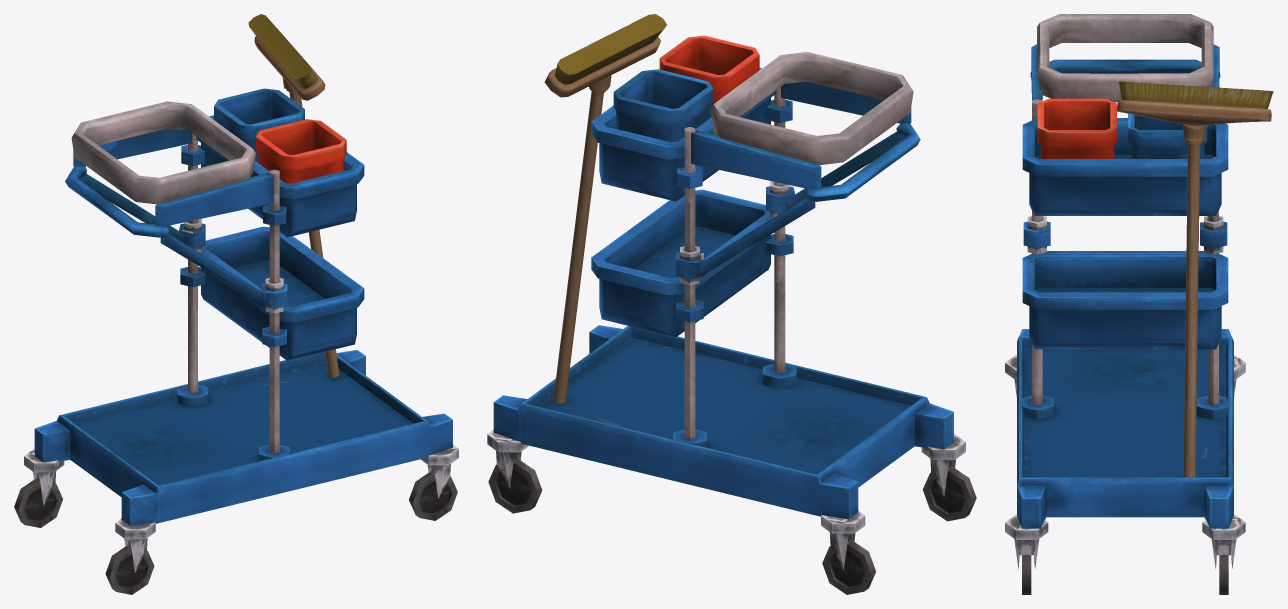
Rendered from chariot_shatter 1.fbx.
3 views of the same model, side by side, from view 1: azimuth 30°, elevation 25°; view 2: azimuth 150°, elevation 25°; view 3: azimuth 270°, elevation 25° (orthographic). The views are drawn at different scales.
Parts seen in each view (by area): view 1: Pieces_3_6, Pieces_1_6, Pieces_2_7, Pieces_3_4, Pieces_2_2, Pieces_3_2, Cylindre_2_3, Pieces_2_3, Pieces_3, Cylindre_2_1, Cylindre_2_2, Pieces_1 (+12 smaller); view 2: Pieces_3_6, Pieces_2_7, Pieces_1_6, Cylindre_2_1, Pieces_2_6, Pieces_3_4, Pieces_3_2, Cylindre_2_2, Pieces_2_3, Pieces_1, Pieces_2, Cylindre_2_3 (+12 smaller); view 3: Pieces_3_6, Cylindre_2_1, Pieces_3_4, Pieces_1, Pieces_1_3, Pieces_1_6, Pieces_2_7, Pieces_3_2, Pieces_2_3, Cylindre_2_3, Pieces_2, Cylindre_2_4_2 (+11 smaller).
Boxes of the visible parts, left/top/right/bottom form: Pieces_3_6: left=158, top=350, right=452, bottom=480; Pieces_1_6: left=118, top=424, right=330, bottom=526; Pieces_2_7: left=34, top=391, right=222, bottom=494; Pieces_3_4: left=199, top=252, right=356, bottom=360; Pieces_2_2: left=155, top=169, right=285, bottom=281; Pieces_3_2: left=71, top=118, right=227, bottom=204; Cylindre_2_3: left=256, top=119, right=346, bottom=183; Pieces_2_3: left=201, top=226, right=319, bottom=293; Pieces_3: left=196, top=136, right=356, bottom=237; Cylindre_2_1: left=248, top=14, right=339, bottom=377; Cylindre_2_2: left=214, top=88, right=304, bottom=162; Pieces_1: left=287, top=256, right=364, bottom=336; Pieces_3_6: left=493, top=325, right=774, bottom=479; Pieces_2_7: left=670, top=420, right=894, bottom=519; Pieces_1_6: left=728, top=362, right=953, bottom=465; Cylindre_2_1: left=544, top=14, right=666, bottom=403; Pieces_2_6: left=677, top=127, right=821, bottom=252; Pieces_3_4: left=627, top=200, right=772, bottom=337; Pieces_3_2: left=774, top=63, right=913, bottom=164; Cylindre_2_2: left=613, top=69, right=713, bottom=142; Pieces_2_3: left=591, top=227, right=683, bottom=325; Pieces_1: left=633, top=189, right=747, bottom=267; Pieces_2: left=591, top=105, right=702, bottom=189; Cylindre_2_3: left=659, top=35, right=759, bottom=117; Pieces_3_6: left=1017, top=388, right=1233, bottom=530; Cylindre_2_1: left=1117, top=81, right=1273, bottom=477; Pieces_3_4: left=1022, top=251, right=1216, bottom=349; Pieces_1: left=1022, top=268, right=1152, bottom=349; Pieces_1_3: left=1022, top=135, right=1152, bottom=215; Pieces_1_6: left=1017, top=329, right=1143, bottom=421; Pieces_2_7: left=1091, top=329, right=1233, bottom=410; Pieces_3_2: left=1037, top=14, right=1213, bottom=52; Pieces_2_3: left=1127, top=252, right=1228, bottom=349; Cylindre_2_3: left=1037, top=98, right=1116, bottom=158; Pieces_2: left=1127, top=123, right=1228, bottom=215; Cylindre_2_4_2: left=1005, top=514, right=1245, bottom=594.
Size of the model in its own units: 55.08 by 66.29 by 34.14.
Materials: 3 (1 with a texture image).
